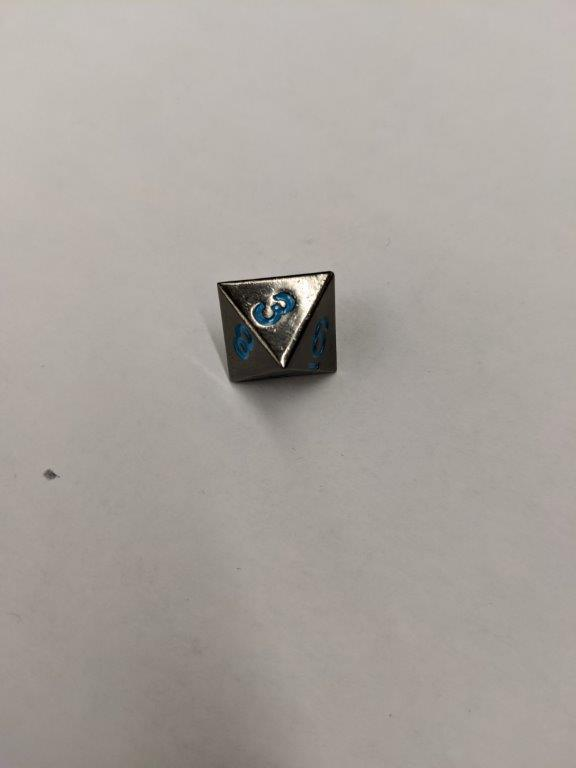d8-3: (216, 270, 340, 385)
